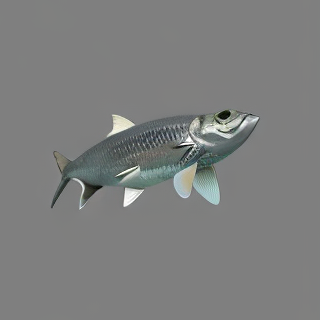Pecific herring: (46, 107, 265, 214)
